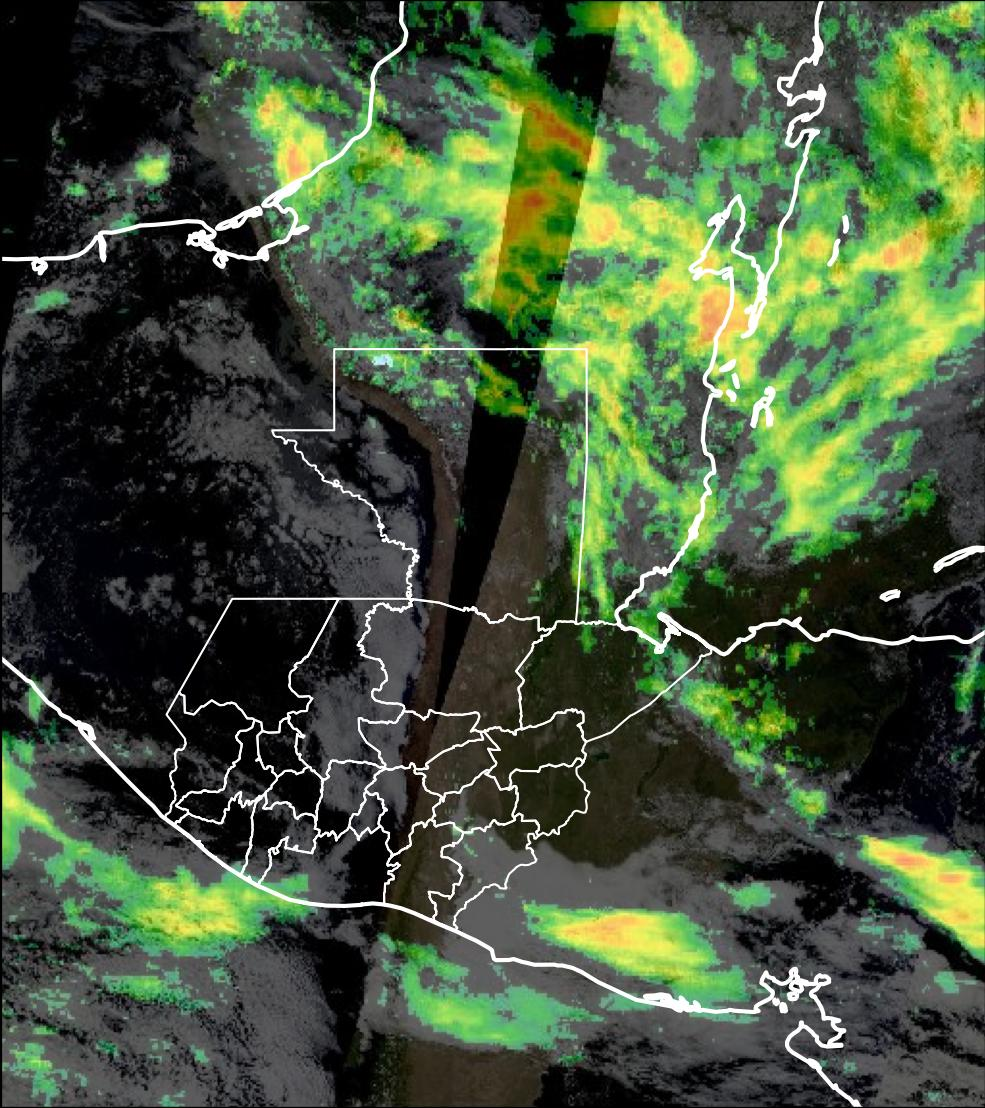precipitacion: (484, 190, 627, 272)
